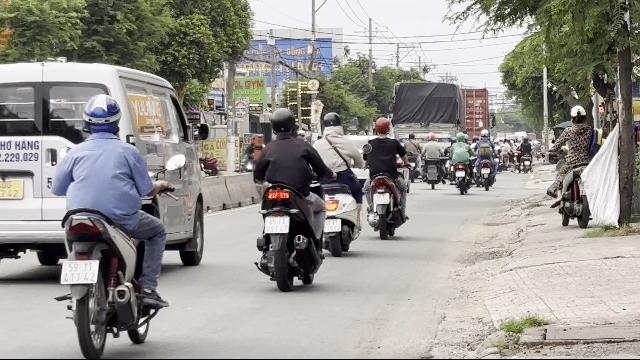helmet: (81, 93, 122, 136), (269, 108, 297, 138), (321, 111, 343, 135), (373, 116, 391, 136), (570, 104, 588, 124), (207, 88, 223, 108)
licenseplate: (61, 260, 99, 284), (265, 217, 289, 233), (324, 218, 341, 232), (373, 193, 389, 204)
motorcyclist: (49, 94, 172, 356), (249, 107, 327, 290), (314, 109, 364, 255), (546, 104, 600, 228), (361, 116, 411, 238)
